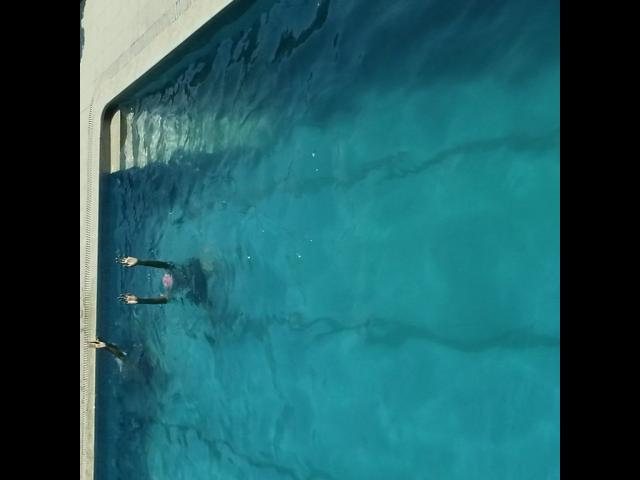drowning: (115, 252, 218, 314), (88, 333, 164, 386)
